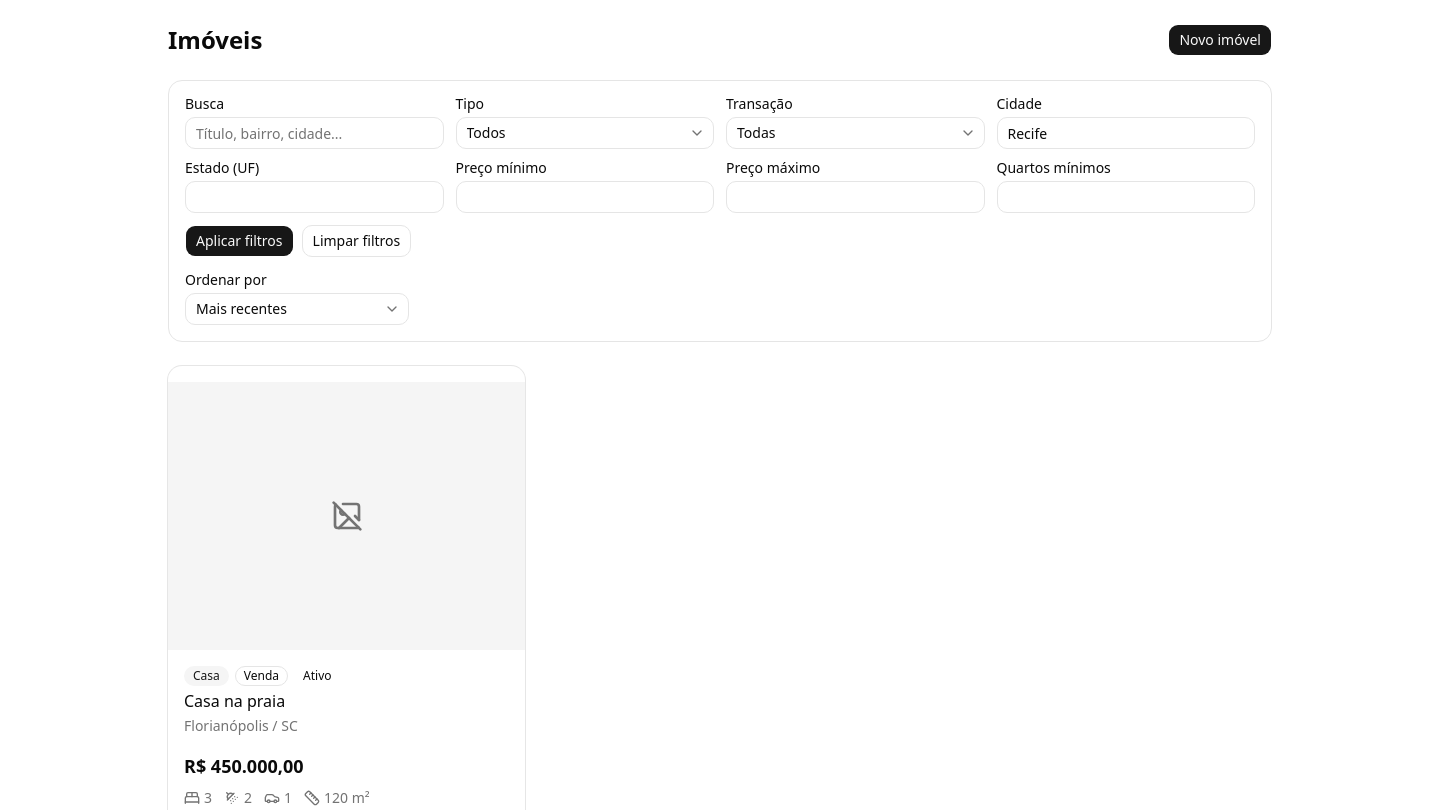
Test: PropertiesPage › clears filters back to defaults
The width and height of the screenshot is (1440, 810).
Expected: the text "Casa na praia" is shown, [184,690,285,712]
Expected: the field labelled "Cidade" holds "Recife", [996,117,1255,149]
Click the button "Limpar filtros" at (356, 241), box [302,225,411,257]
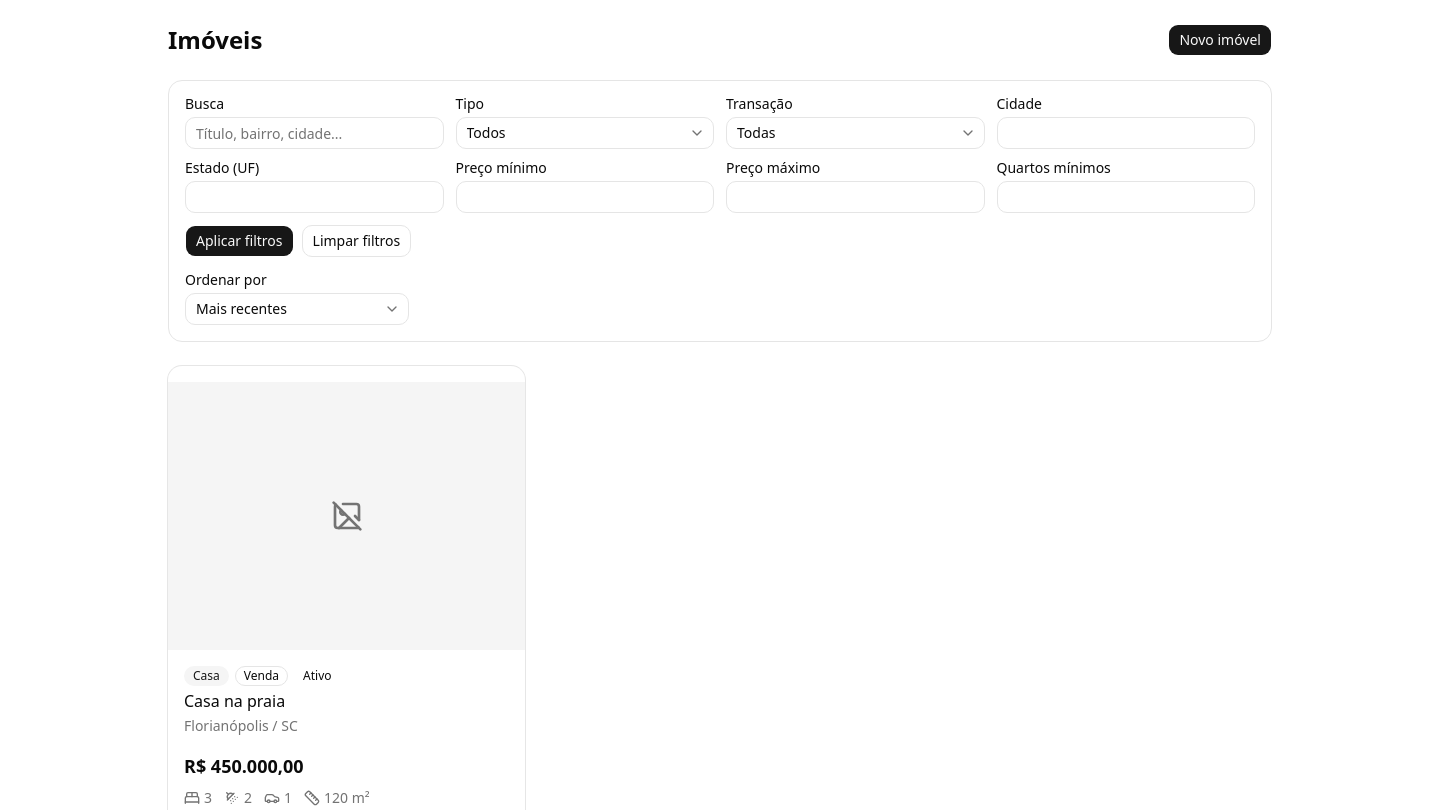
Expected: the field labelled "Cidade" is empty, [996,117,1255,149]
